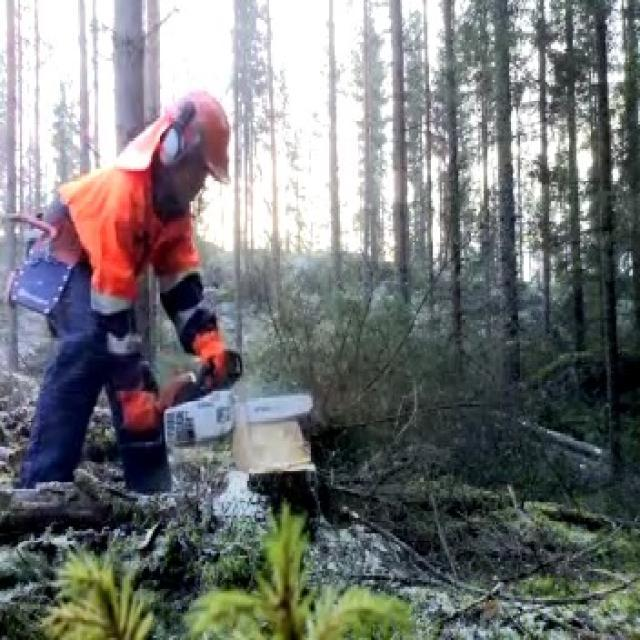Chainsaw: (137, 337, 326, 461)
